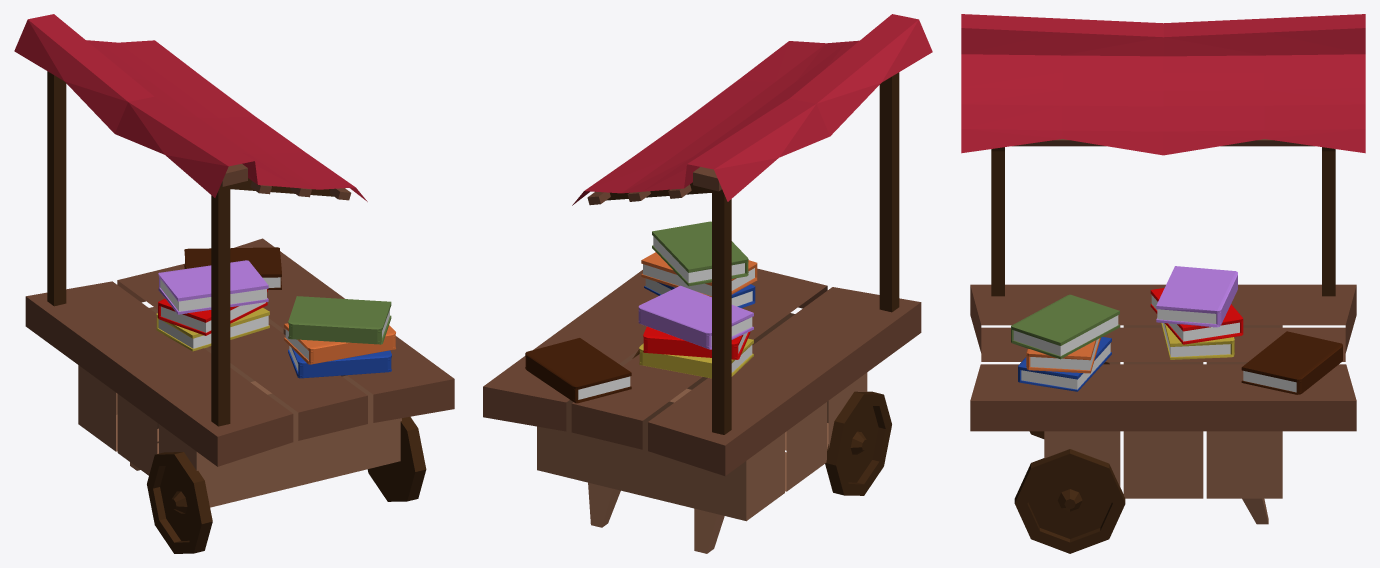
The model's file is BookStand4.fbx.
The picture shows the model from 3 angles, left to right: view 1: azimuth 30°, elevation 25°; view 2: azimuth 150°, elevation 25°; view 3: azimuth 270°, elevation 25°; orthographic projection. The views are drawn at different scales.
Parts seen in each view (by area): view 1: BookStand; view 2: BookStand; view 3: BookStand.
Boxes of the visible parts, bbox=[...] form: BookStand: bbox=[14, 14, 454, 553]; BookStand: bbox=[483, 14, 932, 553]; BookStand: bbox=[961, 14, 1365, 553].
Size of the model in its own units: 930 by 1556 by 1327.
